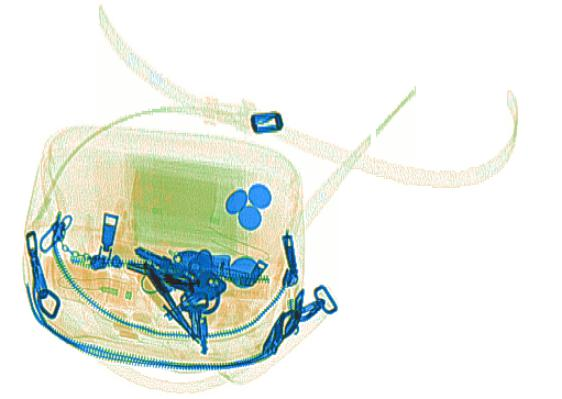plasticBottleWithaNozzle: (45, 246, 156, 309)
